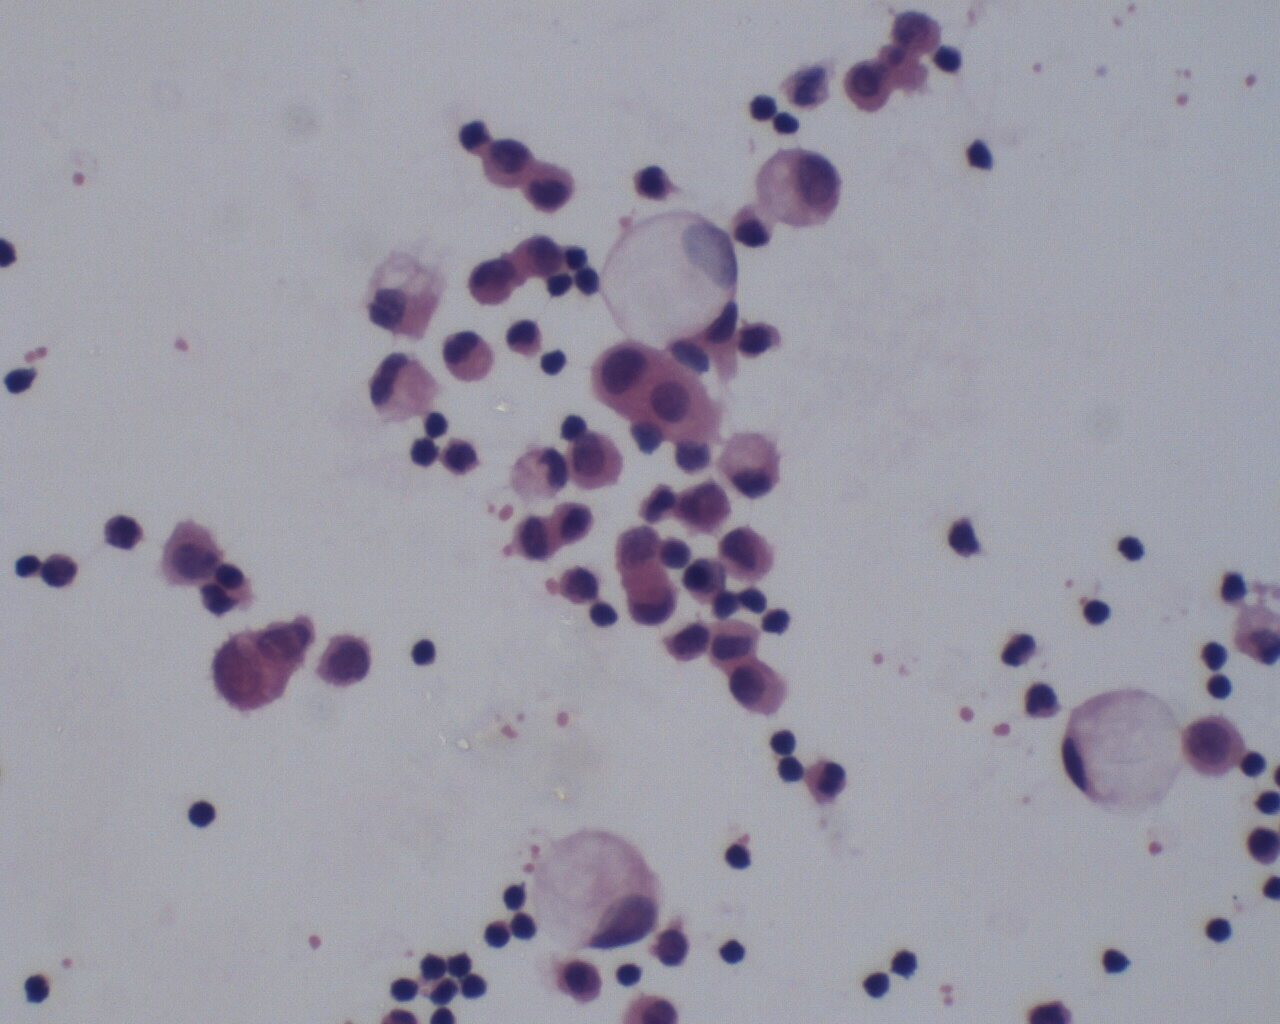ab: (311, 631, 376, 692), (680, 478, 734, 534)
histo: (595, 208, 736, 344), (534, 829, 661, 957), (1056, 684, 1185, 810), (365, 350, 439, 428), (713, 428, 784, 502), (508, 439, 568, 506)
lymph: (1201, 906, 1238, 945), (713, 937, 755, 971), (386, 969, 423, 1005), (401, 436, 438, 471), (538, 346, 573, 383), (408, 635, 441, 672), (766, 722, 802, 755), (747, 88, 781, 123), (185, 795, 217, 832), (1083, 596, 1116, 629), (859, 965, 891, 1000), (722, 840, 754, 872)
meso: (757, 146, 844, 227), (641, 360, 721, 442), (1181, 712, 1246, 778), (435, 323, 499, 389), (730, 656, 790, 720), (842, 57, 900, 115)
